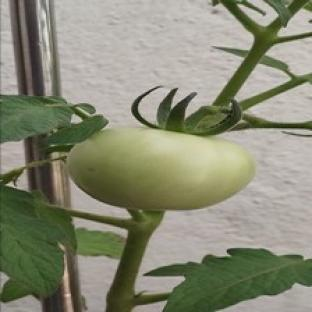Tomato: (67, 129, 254, 210)
